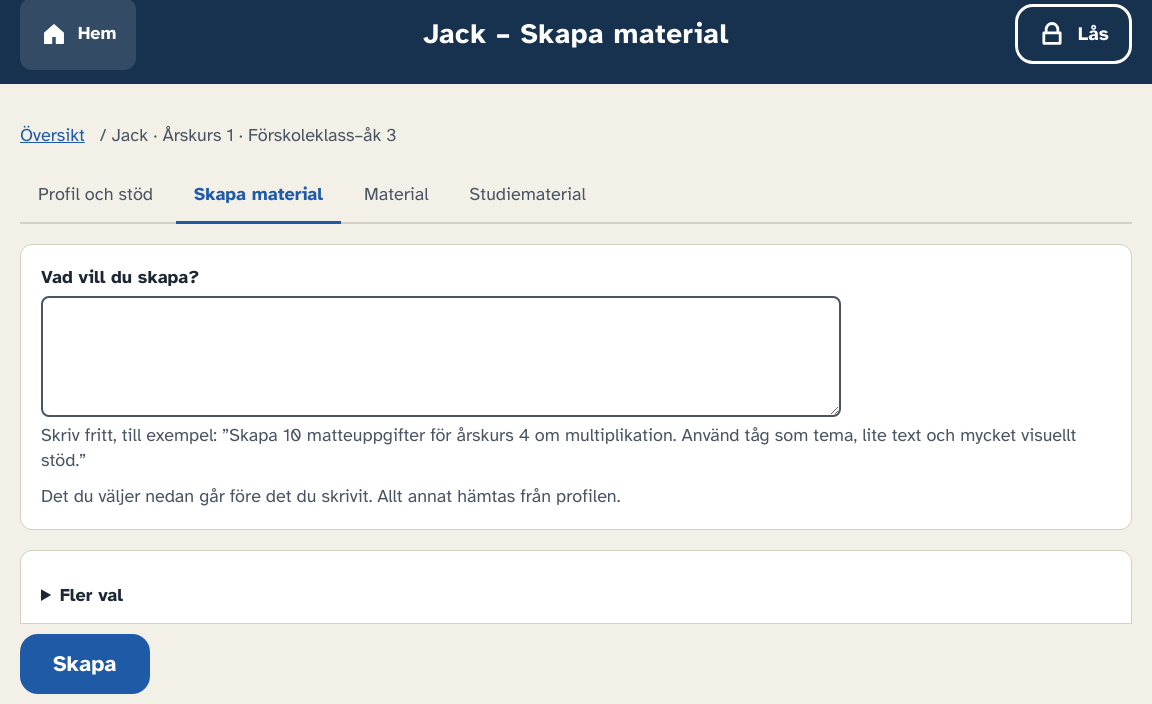
it: generation › uploads pictures inline and waits for them before creating
Type "Prov på kapitlet" into the text box labelled "Vad vill du skapa?" at (441, 357), box x1=41 y1=296 x2=841 y2=417
(page scrolled)
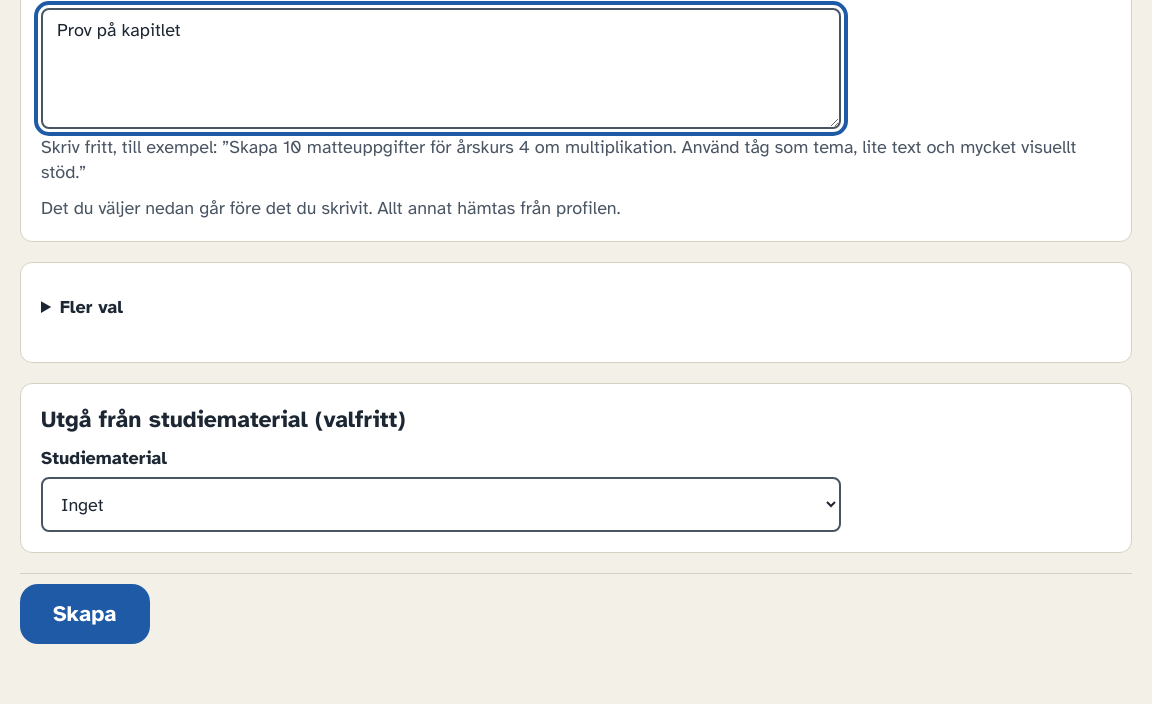
Select "Ladda upp nya bilder…" in the dropdown labelled "Studiematerial" at (441, 505), box x1=41 y1=477 x2=841 y2=532
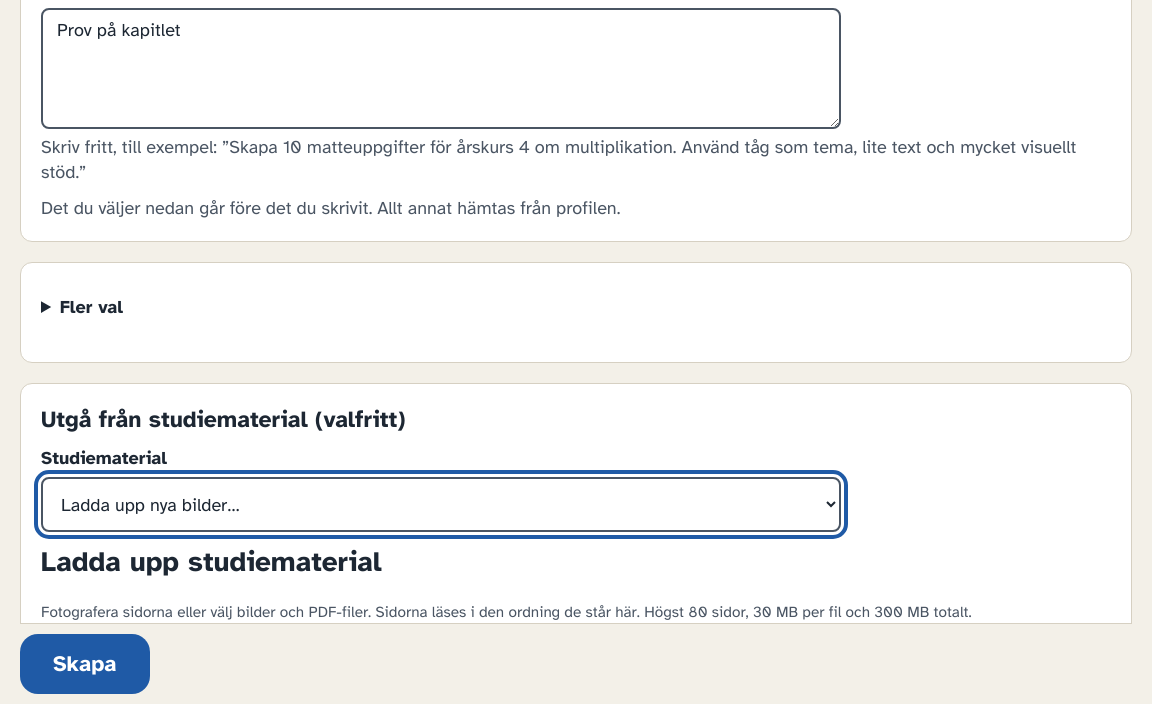
Now the heading "Ladda upp studiematerial" is shown, box x1=41 y1=544 x2=382 y2=579
Click the button "Skapa" at (85, 664), box x1=20 y1=634 x2=150 y2=694
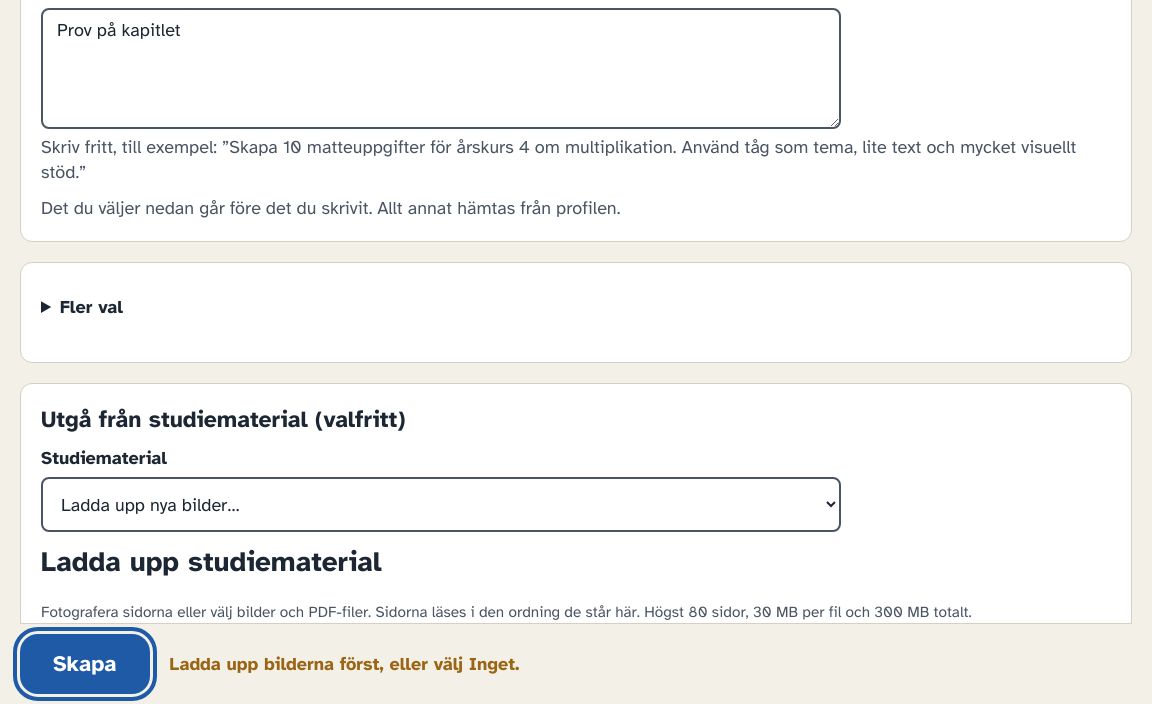
Now the text "Ladda upp bilderna först, eller välj Inget." is shown, box x1=170 y1=651 x2=519 y2=677
Select "Inget" in the dropdown labelled "Studiematerial" at (441, 505), box x1=41 y1=477 x2=841 y2=532
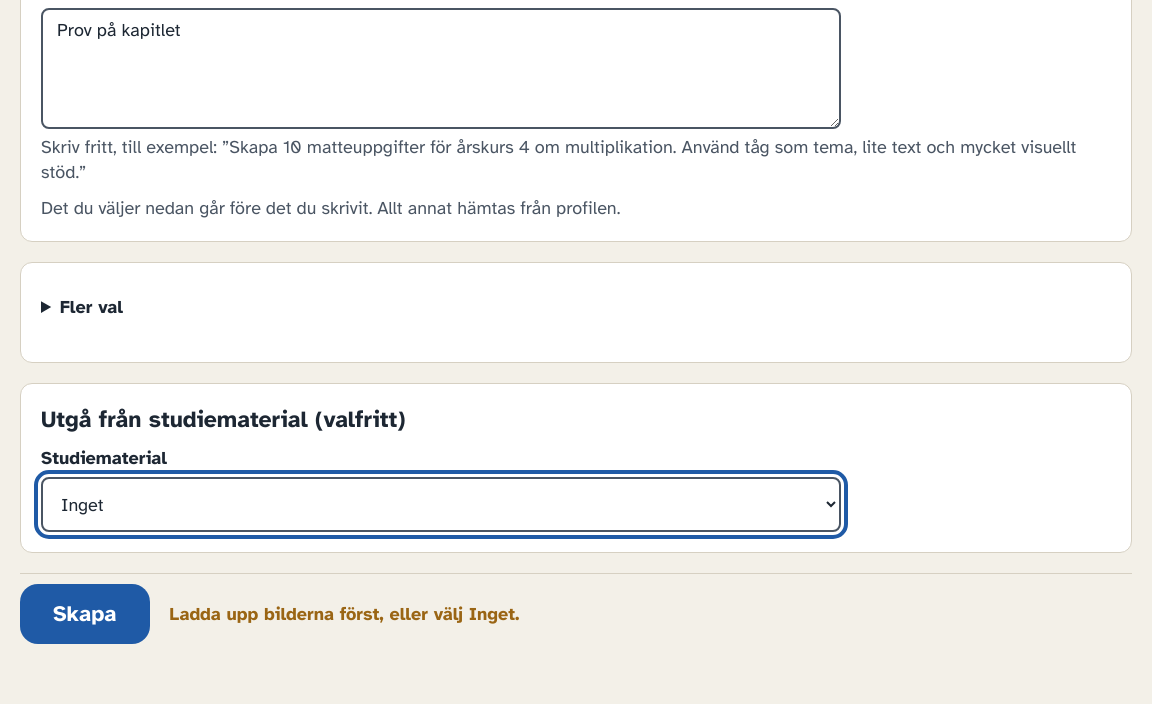
Now the heading "Ladda upp studiematerial" is gone
